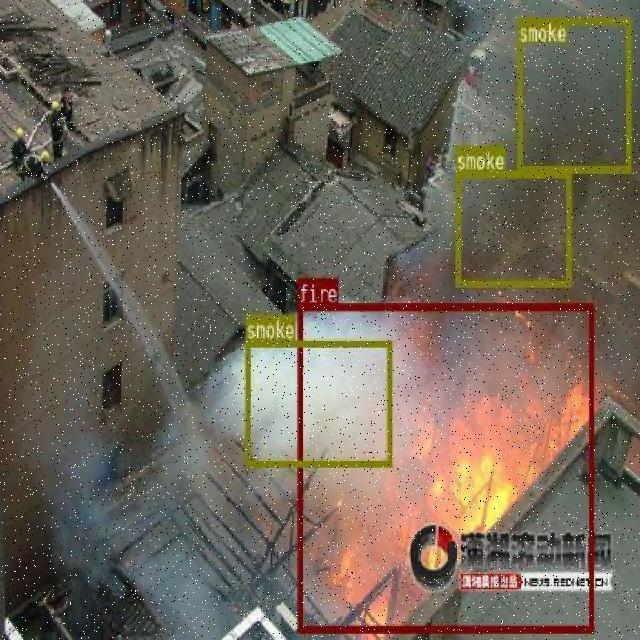Smoke: (455, 171, 570, 284), (516, 49, 630, 139), (280, 332, 355, 458)
